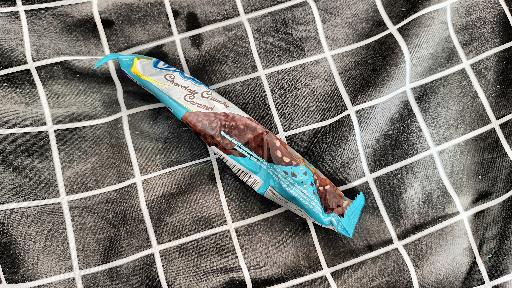dilan: (103, 35, 395, 219)
